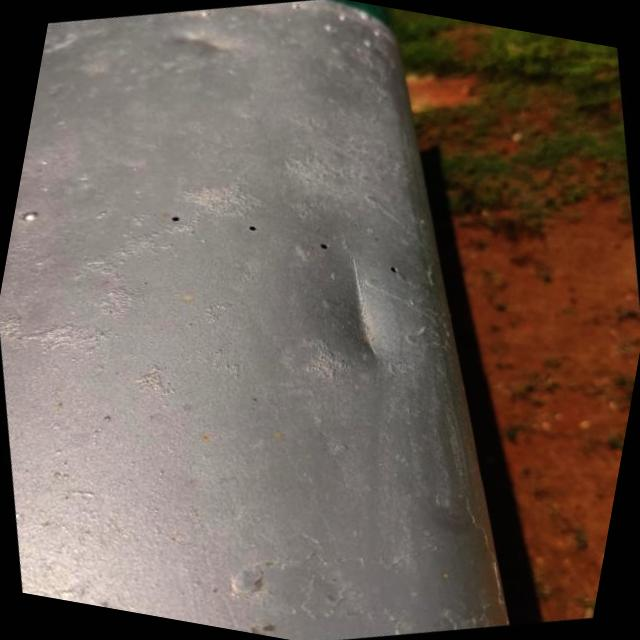dent: (296, 234, 404, 382), (139, 0, 264, 95)
